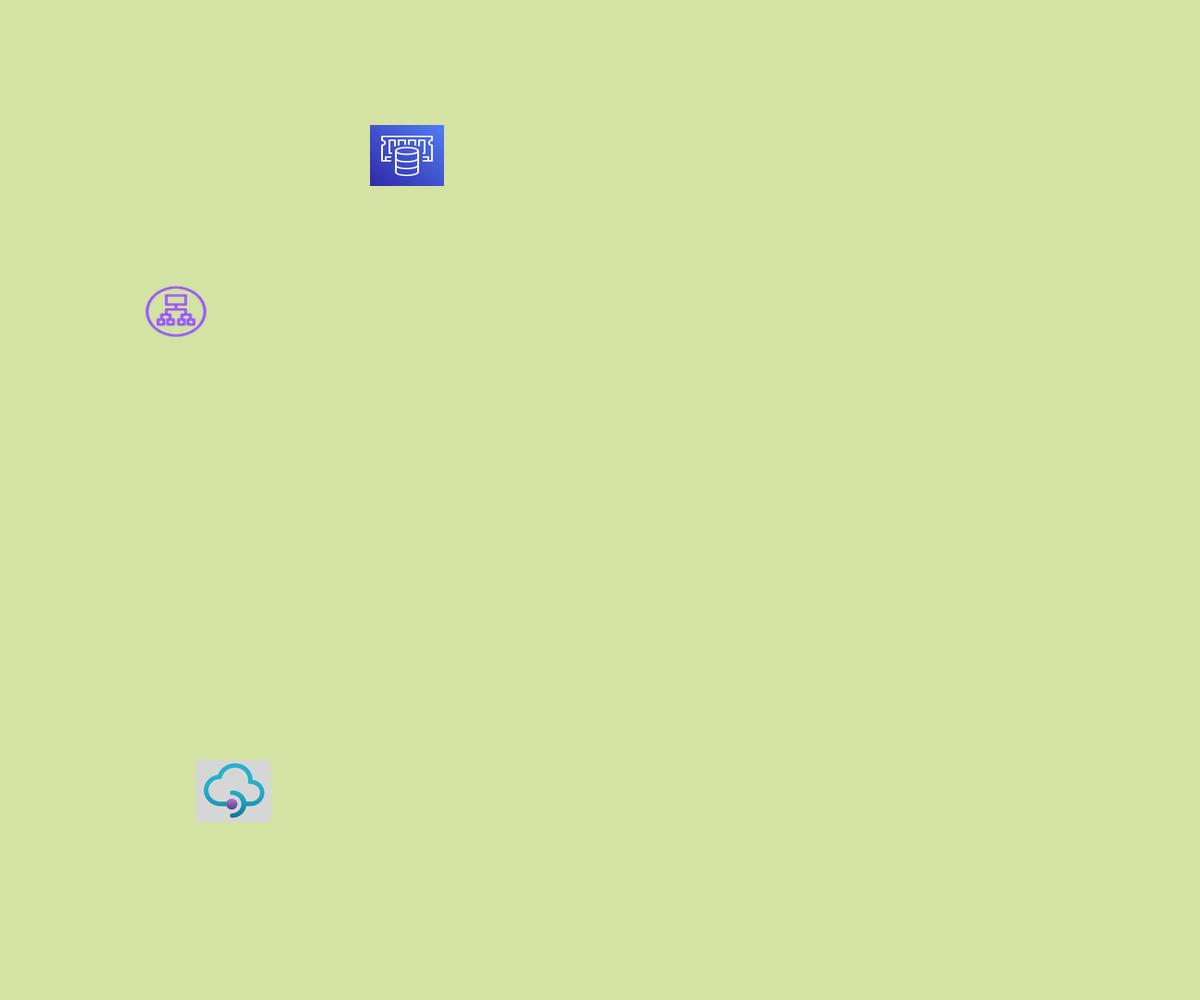AWS-ElastiCache: (370, 125, 444, 186)
AWS-Res_Elastic-Load-Balancing_Application-Load-Balancer: (143, 284, 209, 339)
Azure_api_gateway: (196, 760, 271, 822)
